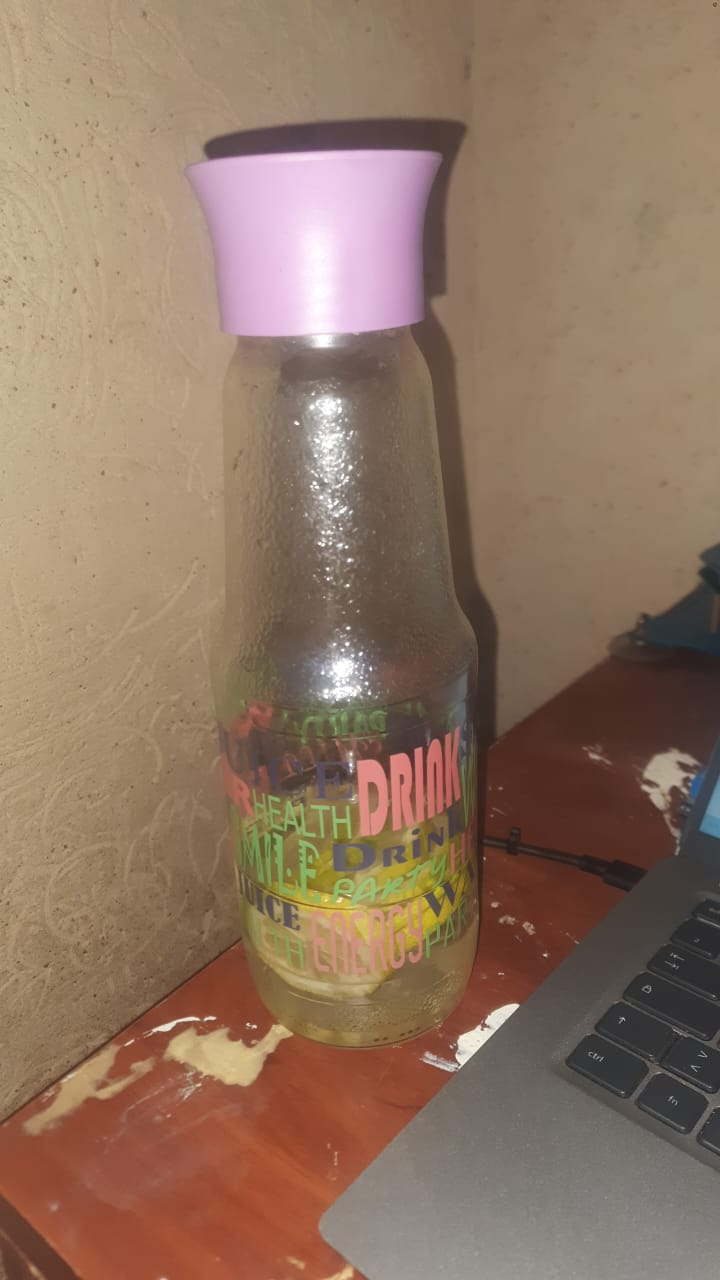bottle: (183, 156, 489, 1039)
